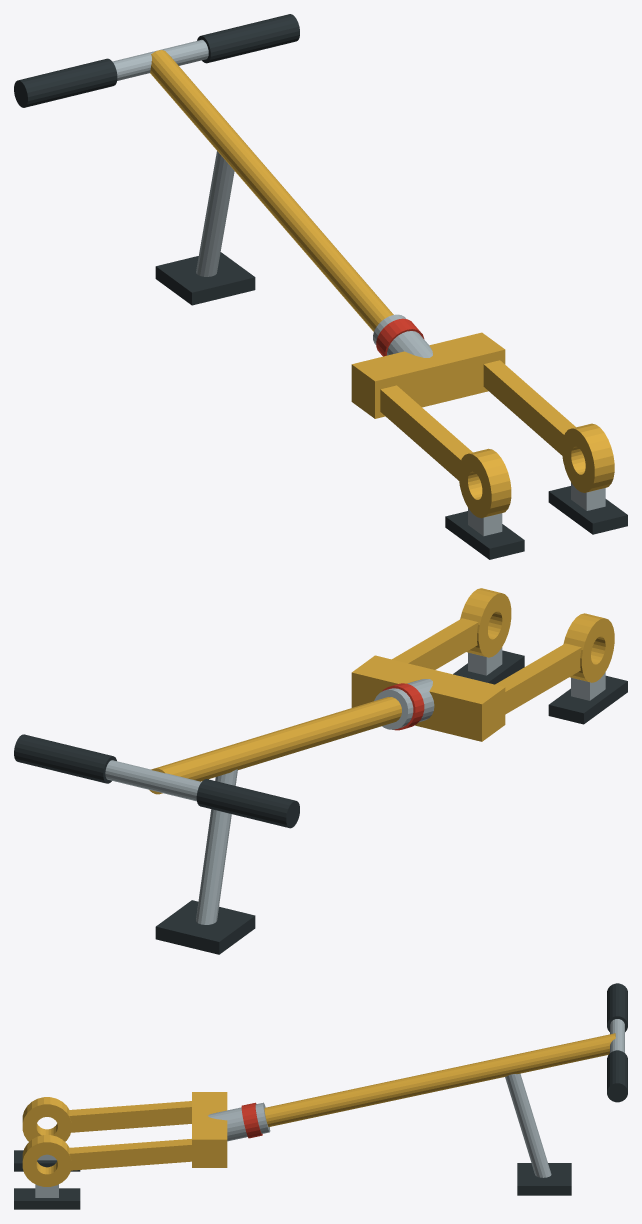
The picture shows the model from 3 angles, top to bottom: view 1: azimuth 30°, elevation 25°; view 2: azimuth 150°, elevation 25°; view 3: azimuth 270°, elevation 25°; orthographic projection. The views are drawn at different scales.
Parts seen in each view (by area): view 1: TowShaft, ForkCrosshead, ForkArm_Right, ForkArm_Left, RearSkid, HandGrip_Left, ForkEye_Left, ForkEye_Right, HandGrip_Right, RearParkingLeg, FrontSkid_Left, FrontSkid_Right (+3 smaller); view 2: ForkCrosshead, TowShaft, RearSkid, HandGrip_Left, HandGrip_Right, ForkArm_Left, RearParkingLeg, ForkEye_Left, ForkEye_Right, ForkArm_Right, HandleCrossbar, FrontSkid_Left (+5 smaller); view 3: TowShaft, ForkArm_Left, ForkArm_Right, ForkCrosshead, ForkEye_Right, RearParkingLeg, ForkEye_Left, RearSkid, FrontSkid_Right, HandGrip_Right, ShaftSocket, HandGrip_Left (+3 smaller).
Part boxes in pixels (left/top/right/bottom): TowShaft: left=150, top=50, right=393, bottom=331; ForkCrosshead: left=351, top=332, right=505, bottom=418; ForkArm_Right: left=483, top=360, right=575, bottom=455; ForkArm_Left: left=380, top=385, right=472, bottom=480; RearSkid: left=155, top=252, right=255, bottom=305; HandGrip_Left: left=14, top=58, right=117, bottom=107; ForkEye_Left: left=458, top=448, right=511, bottom=518; ForkEye_Right: left=562, top=423, right=614, bottom=492; HandGrip_Right: left=197, top=14, right=299, bottom=63; RearParkingLeg: left=196, top=151, right=234, bottom=276; FrontSkid_Left: left=445, top=511, right=524, bottom=559; FrontSkid_Right: left=548, top=486, right=627, bottom=534; ForkCrosshead: left=351, top=655, right=505, bottom=741; TowShaft: left=149, top=697, right=401, bottom=794; RearSkid: left=155, top=900, right=255, bottom=954; HandGrip_Left: left=196, top=779, right=299, bottom=828; HandGrip_Right: left=14, top=734, right=116, bottom=783; ForkArm_Left: left=495, top=643, right=581, bottom=714; RearParkingLeg: left=196, top=769, right=237, bottom=924; ForkEye_Left: left=563, top=613, right=614, bottom=682; ForkEye_Right: left=460, top=588, right=511, bottom=657; ForkArm_Right: left=392, top=618, right=478, bottom=669; HandleCrossbar: left=105, top=760, right=201, bottom=801; FrontSkid_Left: left=548, top=675, right=627, bottom=724; TowShaft: left=264, top=1033, right=615, bottom=1126; ForkArm_Left: left=69, top=1101, right=191, bottom=1132; ForkArm_Right: left=69, top=1139, right=191, bottom=1170; ForkCrosshead: left=192, top=1092, right=227, bottom=1167; ForkEye_Right: left=22, top=1135, right=71, bottom=1186; RearParkingLeg: left=505, top=1073, right=551, bottom=1177; ForkEye_Left: left=22, top=1097, right=71, bottom=1141; RearSkid: left=517, top=1163, right=571, bottom=1195; FrontSkid_Right: left=14, top=1188, right=80, bottom=1209; HandGrip_Right: left=607, top=1050, right=627, bottom=1102; ShaftSocket: left=208, top=1102, right=270, bottom=1141; HandGrip_Left: left=607, top=983, right=627, bottom=1031.
Bounding box in the file's own units: 0.712 × 0.5016 × 1.85.
